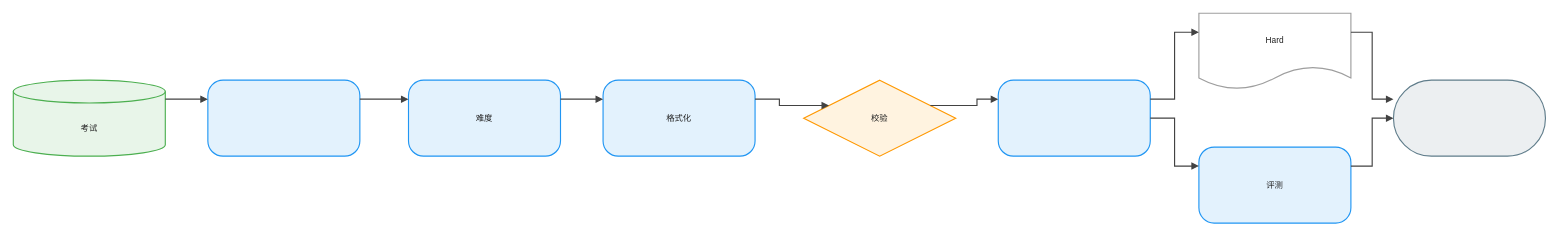
Some shapes in this 1560 by 237 pixel diagram are drawn without their labels. Here are the shapes that lost their labels. From the top down, the centre of each, then its label:
the point at 283,117: 学科
the point at 1073,117: 切分
the point at 1469,117: 准确率
